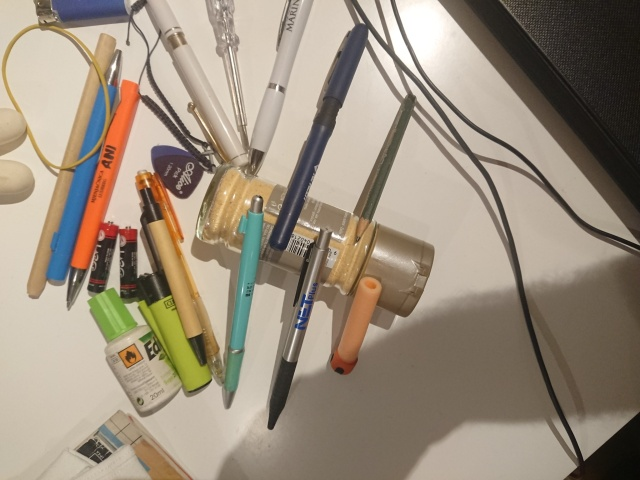Kotanyi Garlic Granules 70g: (192, 160, 438, 320)
